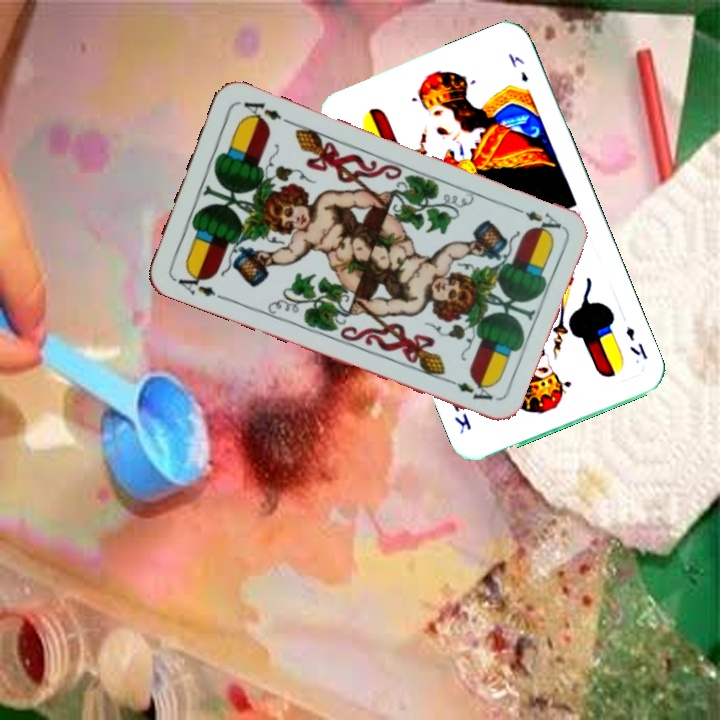EA: (170, 267, 227, 303), (508, 202, 564, 236)
EK: (621, 323, 650, 362)
